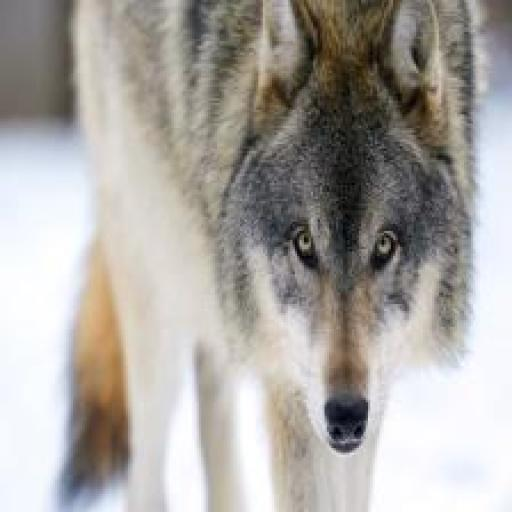wolf: (43, 0, 512, 512)
